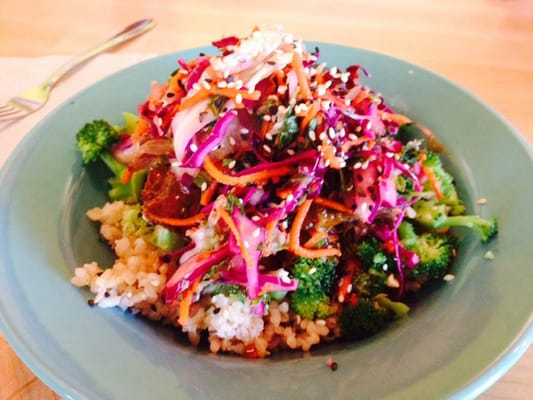curry: (75, 118, 139, 202), (287, 257, 339, 320)
